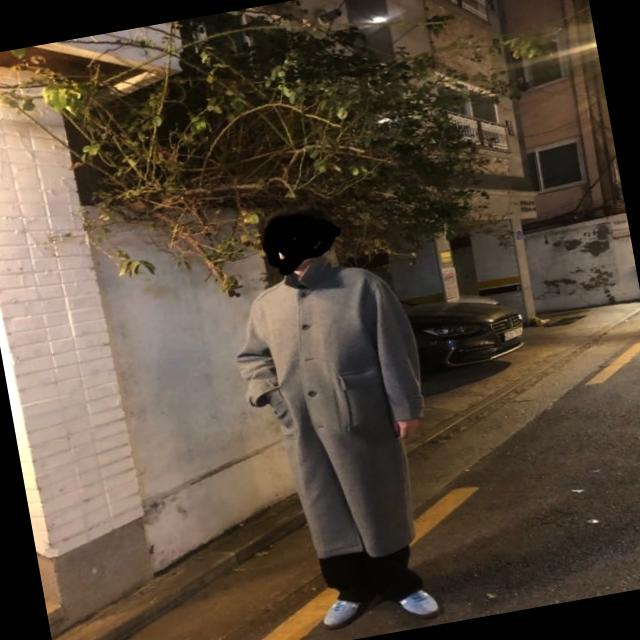coat: (222, 243, 451, 577)
slacks: (316, 538, 422, 614)
